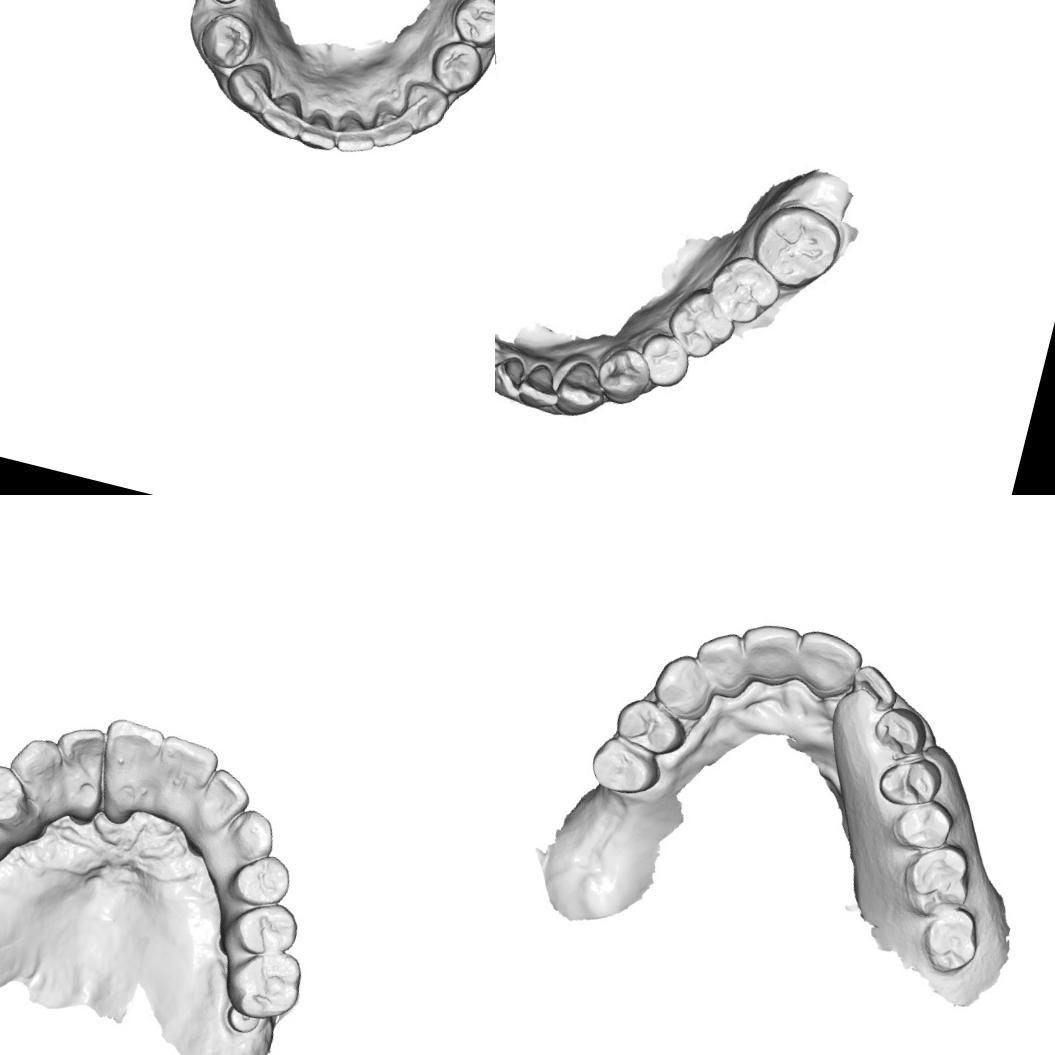canine: (0, 730, 70, 816), (645, 645, 720, 723), (869, 698, 935, 764), (218, 802, 281, 866), (220, 54, 280, 117), (550, 358, 610, 416), (396, 78, 452, 138)
implant: (222, 1004, 262, 1036)
implant_minus: (204, 0, 246, 10)
incisor: (84, 713, 167, 830), (39, 718, 117, 824), (142, 732, 222, 833), (786, 624, 868, 698), (193, 764, 256, 848), (732, 614, 804, 684), (686, 622, 754, 696), (848, 654, 905, 712), (364, 96, 420, 155), (255, 83, 308, 141), (332, 112, 380, 162), (294, 104, 342, 153), (516, 362, 559, 407), (495, 352, 525, 397)
molar: (892, 832, 982, 929), (220, 939, 309, 1027), (749, 202, 838, 286), (915, 900, 989, 982), (705, 252, 779, 326), (668, 288, 738, 356)
premolar: (606, 691, 693, 764), (582, 731, 666, 802), (223, 892, 303, 964), (871, 746, 948, 818), (886, 789, 962, 860), (225, 846, 296, 914), (194, 7, 260, 74), (424, 34, 488, 98), (596, 344, 657, 404), (0, 756, 38, 833), (640, 334, 692, 386), (447, 0, 495, 53)
